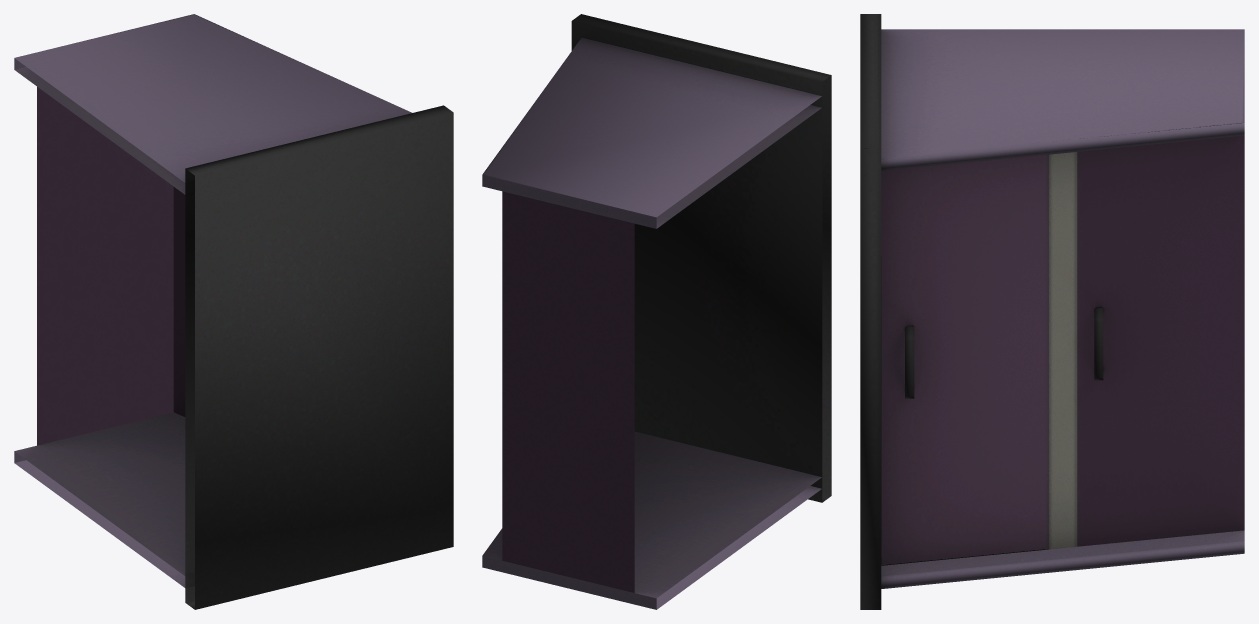
Rendered from nt_bedside_drawer_purple_LOD1.obj.
The picture shows the model from 3 angles, left to right: view 1: azimuth 30°, elevation 25°; view 2: azimuth 150°, elevation 25°; view 3: azimuth 270°, elevation 25°; orthographic projection. The views are drawn at different scales.
Visible parts, largest first — view 1: mtl_nt_bedside_drawer_purple; view 2: mtl_nt_bedside_drawer_purple; view 3: mtl_nt_bedside_drawer_purple.
Boxes of the visible parts, bbox=[...] form: mtl_nt_bedside_drawer_purple: bbox=[14, 14, 453, 609]; mtl_nt_bedside_drawer_purple: bbox=[482, 14, 831, 609]; mtl_nt_bedside_drawer_purple: bbox=[860, 14, 1244, 609].
Bounding box in the file's own units: 57.69 × 92.56 × 69.85.
